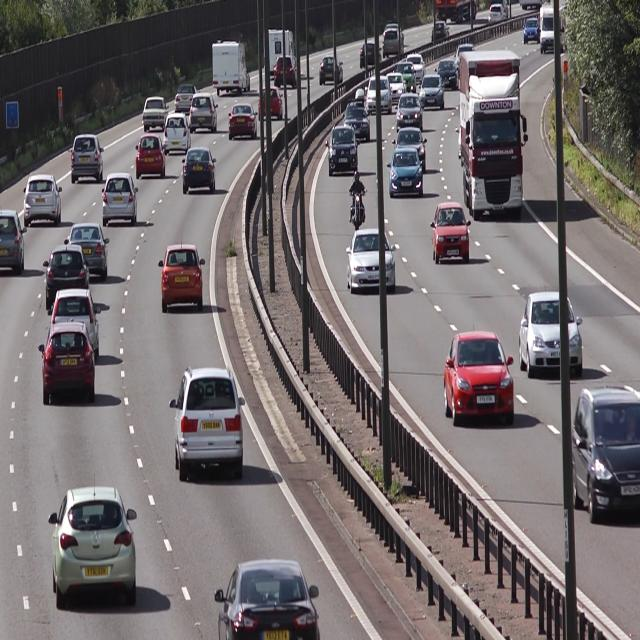Car: (460, 52, 530, 220), (49, 489, 140, 612), (170, 363, 248, 481), (574, 387, 640, 525), (215, 561, 323, 640), (443, 329, 517, 426), (520, 288, 580, 377), (39, 328, 98, 406), (158, 241, 208, 314), (347, 228, 398, 295), (42, 246, 91, 313), (432, 198, 472, 266), (51, 293, 101, 347), (22, 170, 67, 226), (212, 36, 252, 95), (99, 173, 140, 227), (180, 144, 218, 196), (387, 146, 424, 199), (70, 133, 105, 185), (0, 206, 25, 276), (326, 125, 360, 176), (135, 132, 168, 181), (344, 89, 372, 140), (190, 92, 221, 132), (163, 112, 192, 154), (140, 94, 170, 133), (228, 102, 258, 141), (397, 93, 425, 132), (418, 72, 447, 109), (368, 75, 392, 115), (318, 53, 345, 88), (259, 87, 283, 121), (275, 53, 298, 88), (173, 83, 198, 112)
